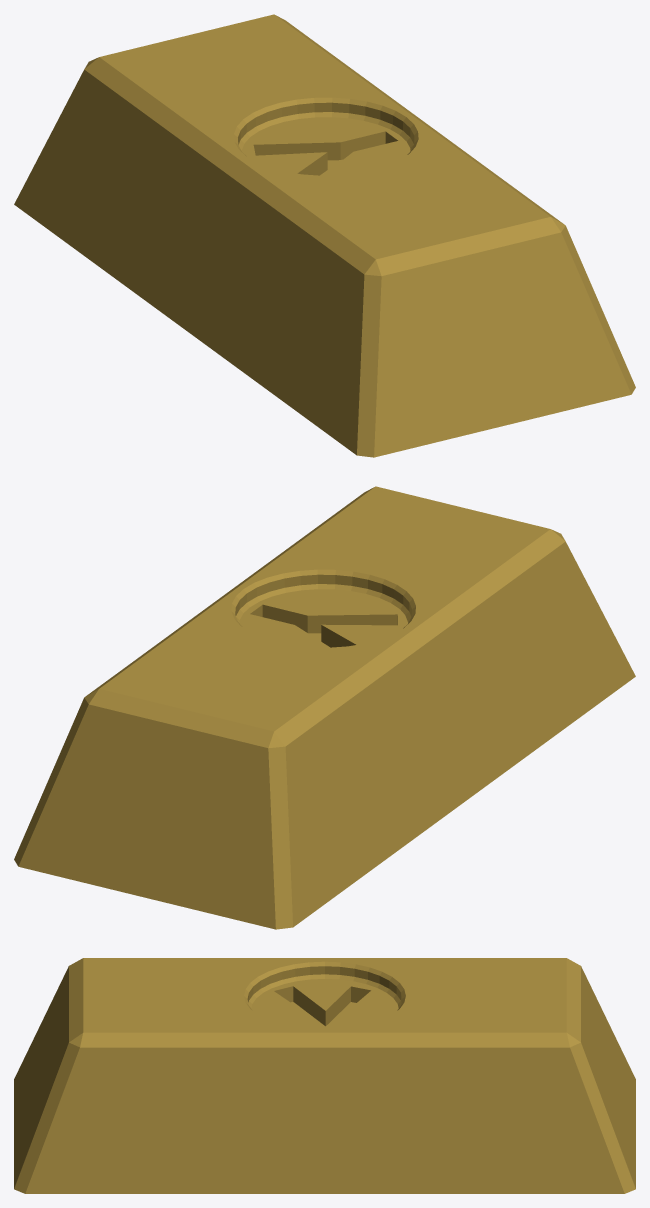
The model's file is altn.fbx.
3 renders of one model, top to bottom at view 1: azimuth 30°, elevation 25°; view 2: azimuth 150°, elevation 25°; view 3: azimuth 270°, elevation 25°, orthographic. The views are drawn at different scales.
Parts seen in each view (by area): view 1: Cube; view 2: Cube; view 3: Cube.
Part boxes in pixels (<box>): Cube: <box>14,14,635,457</box>; Cube: <box>14,486,635,929</box>; Cube: <box>14,958,635,1193</box>.
Bounding box in the file's own units: 99.77 × 54.33 × 220.
